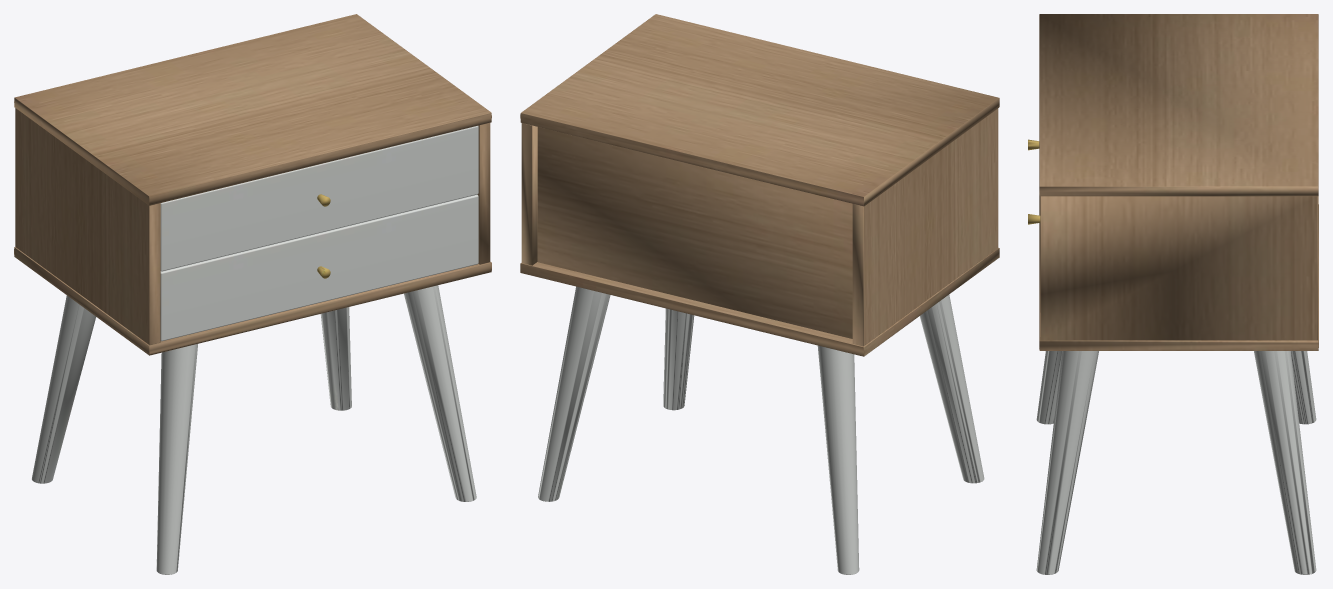
File: table_chevet.glb
The picture shows the model from 3 angles, left to right: view 1: azimuth 30°, elevation 25°; view 2: azimuth 150°, elevation 25°; view 3: azimuth 270°, elevation 25°; orthographic projection. The views are drawn at different scales.
Visible parts, largest first — view 1: RootNode; view 2: RootNode; view 3: RootNode.
Part boxes in pixels (box(x1,y1,x2,y2)): RootNode: box(14, 14, 491, 574); RootNode: box(520, 14, 999, 574); RootNode: box(1028, 14, 1318, 574).
Size of the model in its own units: 0.5714 by 0.6096 by 0.4068.
Materials: 1 (1 with a texture image).
